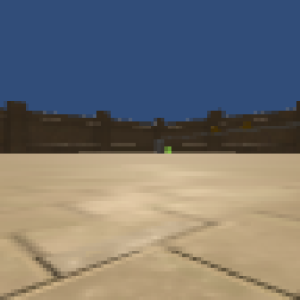goodGoal: (165, 145, 172, 154)
goodGoalMulti: (208, 123, 223, 134), (241, 119, 253, 129)
wall: (153, 138, 165, 154)
